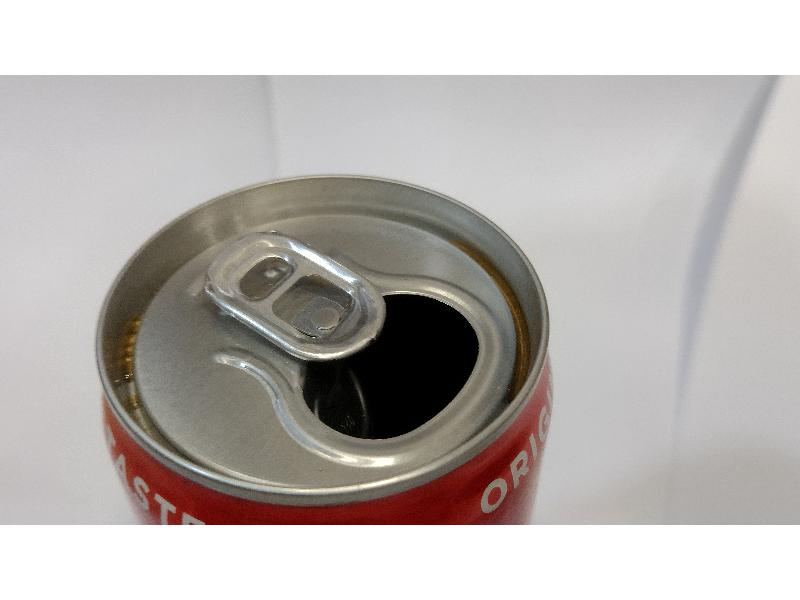can: (96, 171, 557, 522)
